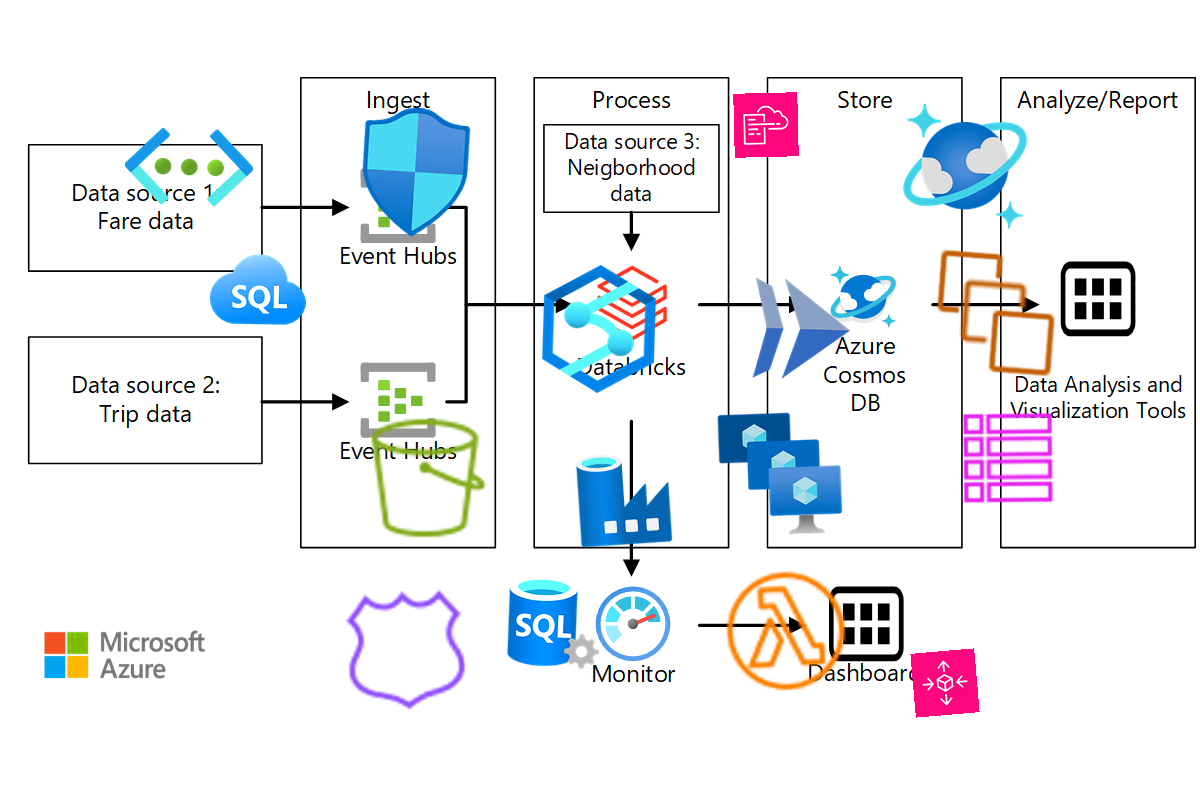aws_auto_scaling: (910, 648, 980, 718)
aws_cloudformation: (733, 92, 799, 158)
aws_dynamodb_table: (959, 409, 1057, 507)
aws_ec2_instances: (927, 244, 1065, 382)
aws_lambda_lambda_function: (718, 563, 854, 699)
aws_route_53_hosted_zone: (338, 581, 476, 719)
aws_simple_storage_service_bucket: (363, 413, 493, 543)
azure_cosmos_db: (897, 98, 1033, 234)
azure_data_factories: (572, 447, 676, 551)
azure_network_security_groups: (347, 104, 483, 240)
azure_sql: (209, 242, 307, 340)
azure_sql_server: (504, 572, 604, 672)
azure_synapse_analytics: (533, 263, 665, 395)
azure_virtual_networks: (122, 100, 256, 234)
azure_vm_scale_sets: (711, 404, 845, 538)
gcp_cloud_run: (733, 262, 867, 396)
